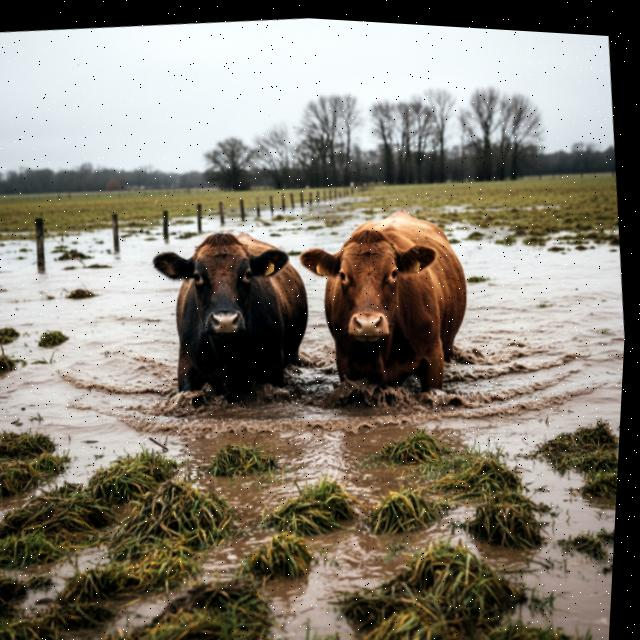cow: (278, 193, 492, 416), (137, 204, 323, 413)
